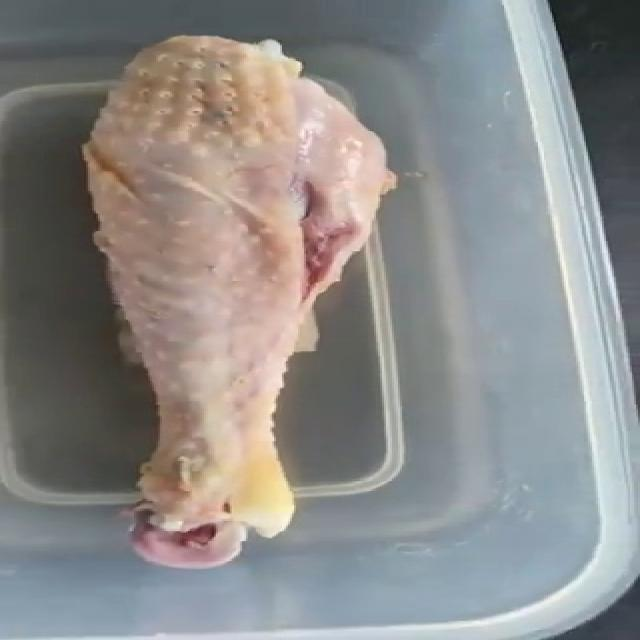chicken: (82, 29, 394, 573)
